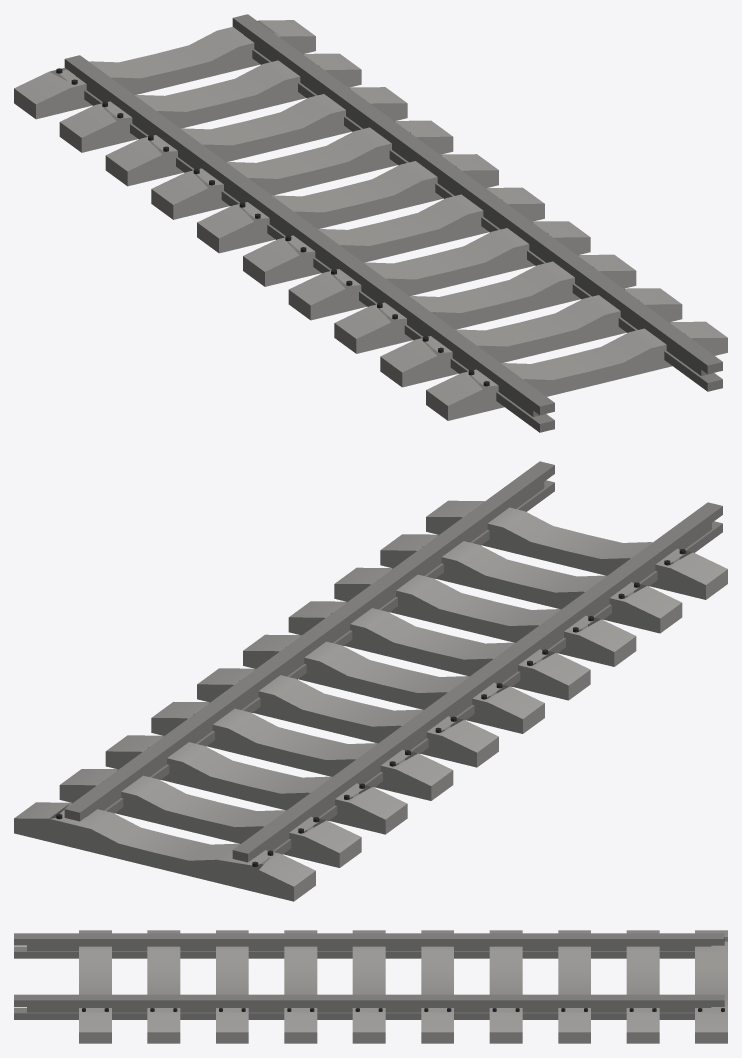
The model's file is Rails.obj.
The picture shows the model from 3 angles, top to bottom: view 1: azimuth 30°, elevation 25°; view 2: azimuth 150°, elevation 25°; view 3: azimuth 270°, elevation 25°; orthographic projection. The views are drawn at different scales.
Visible parts, largest first — view 1: Rails; view 2: Rails; view 3: Rails.
Part boxes in pixels (x1,y1,x2,y2): Rails: [14, 14, 727, 432]; Rails: [14, 461, 727, 901]; Rails: [14, 930, 727, 1043].
Size of the model in its own units: 106 by 12.42 by 313.
Materials: 1 (1 with a texture image).
